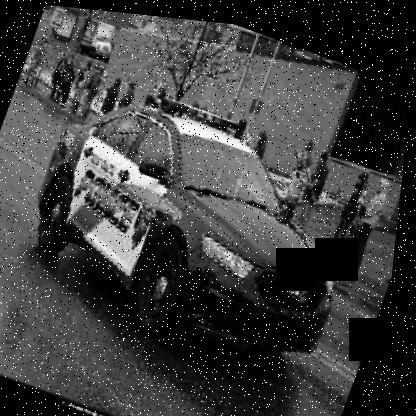emergency: (0, 49, 411, 404)
